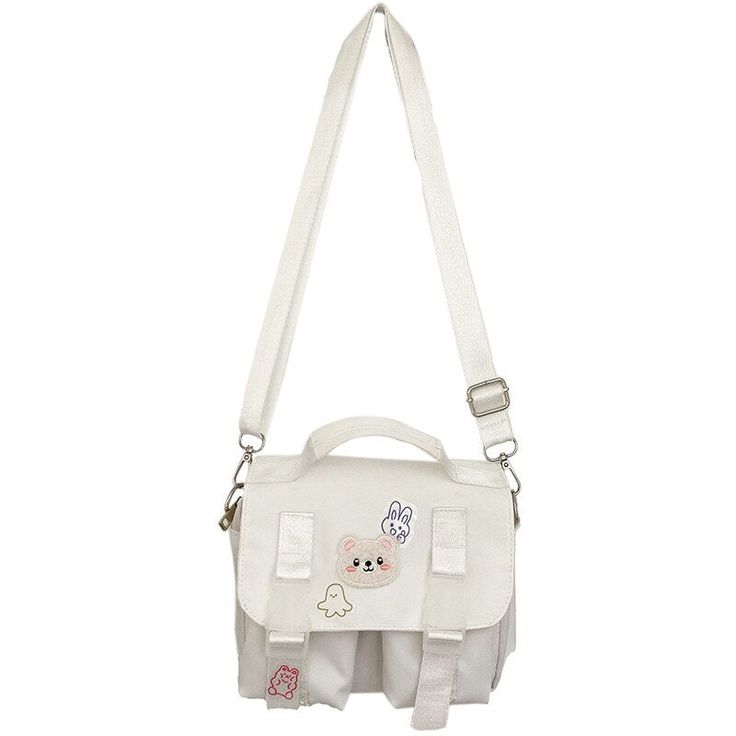nylon: (220, 4, 520, 730)
